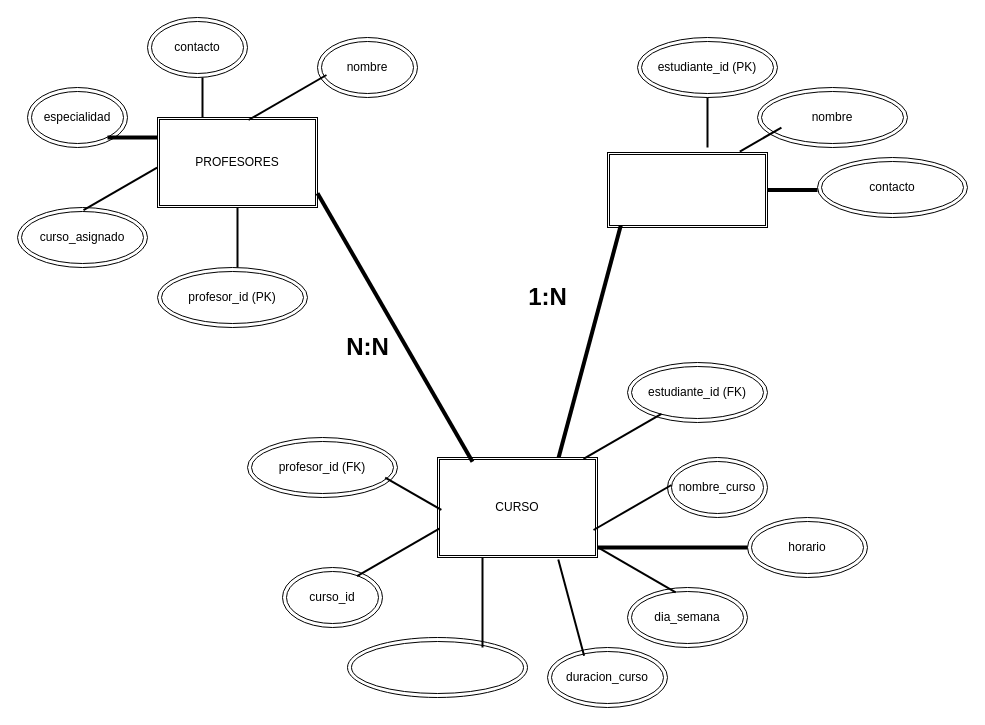
This 985x725 diagram has some shape labels left out. Each missing label, with the centre of its shape:
"descripcion_curso" goes at point (437, 667).
"ESTUDIANTES" goes at point (687, 190).
